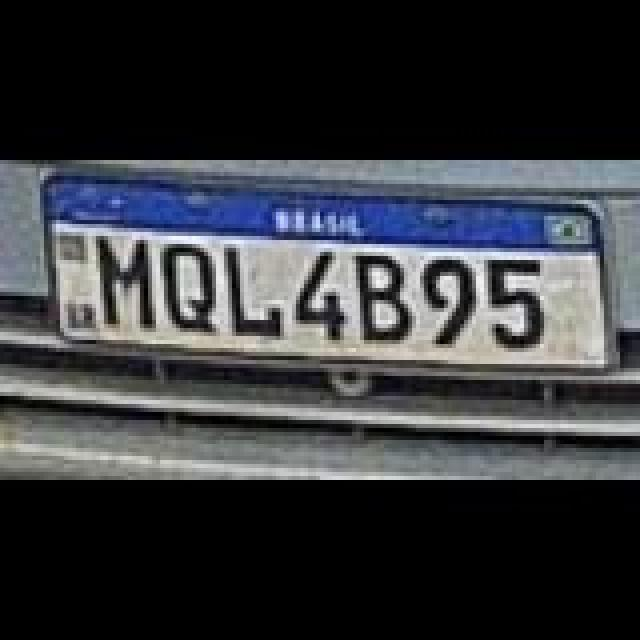4: (284, 250, 356, 342)
5: (474, 256, 558, 352)
9: (408, 258, 488, 350)
B: (344, 254, 424, 346)
L: (216, 244, 288, 340)
M: (88, 232, 168, 328)
Q: (154, 242, 230, 334)
